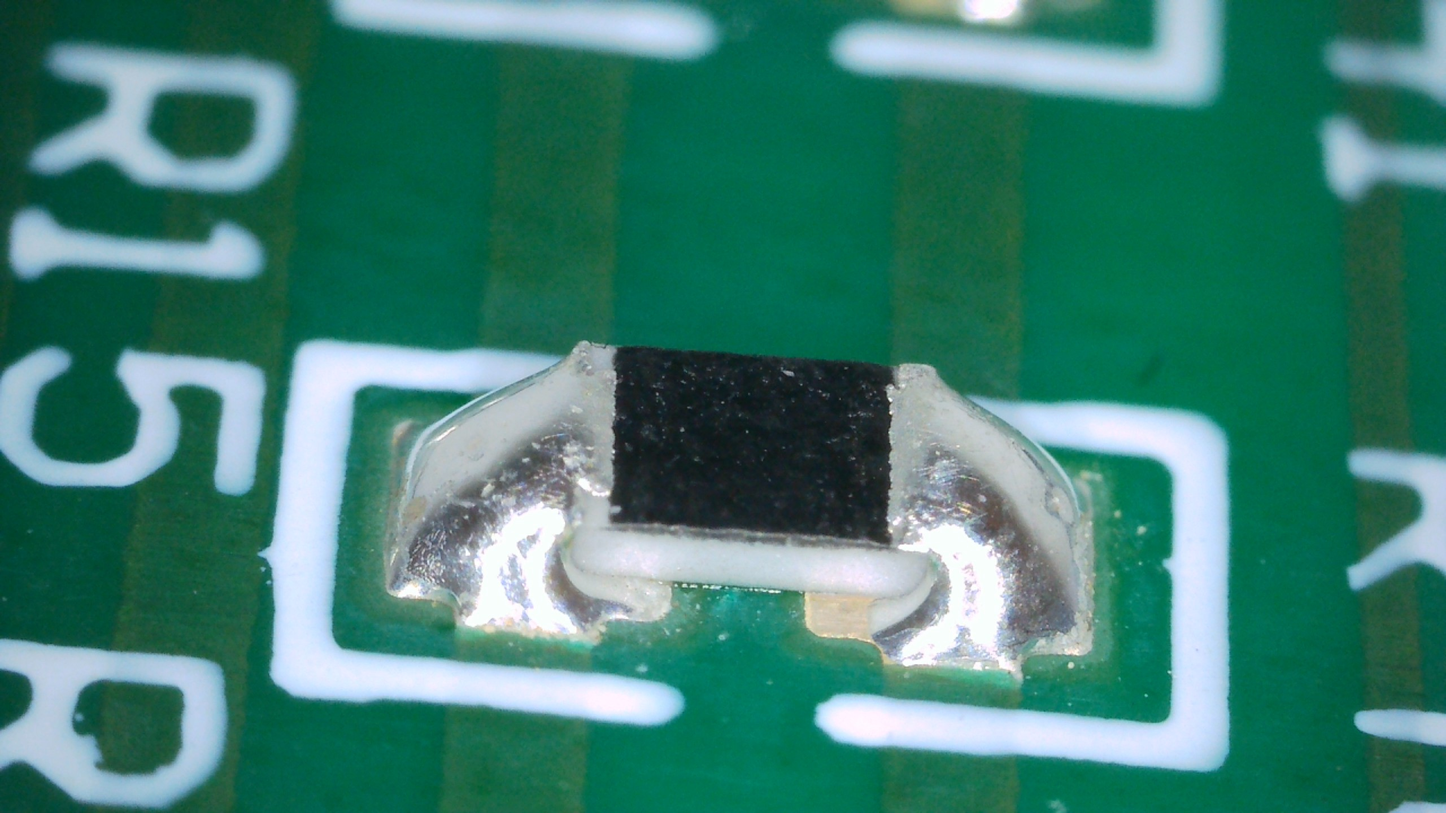NG: (385, 342, 628, 635), (873, 364, 1080, 672)
